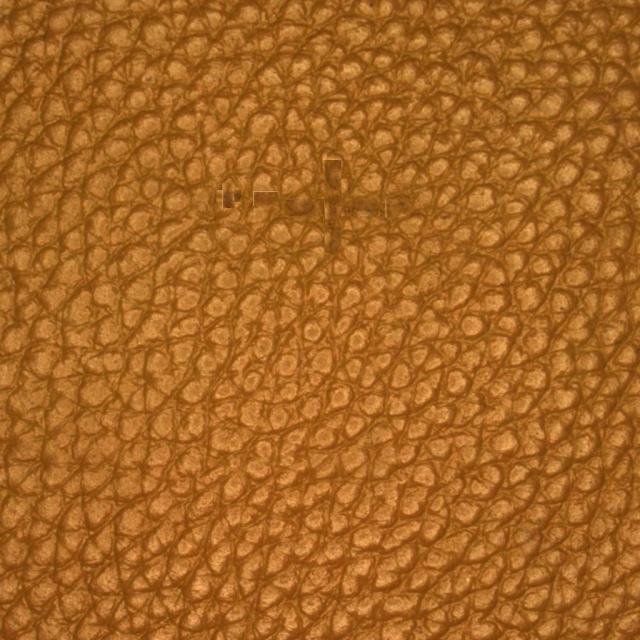Healed Injury: (183, 119, 375, 279)
